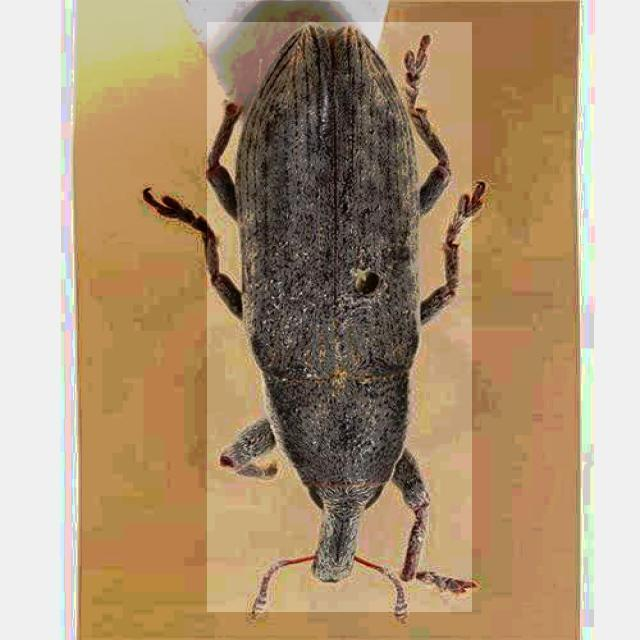rice-bug: (207, 22, 472, 612)
